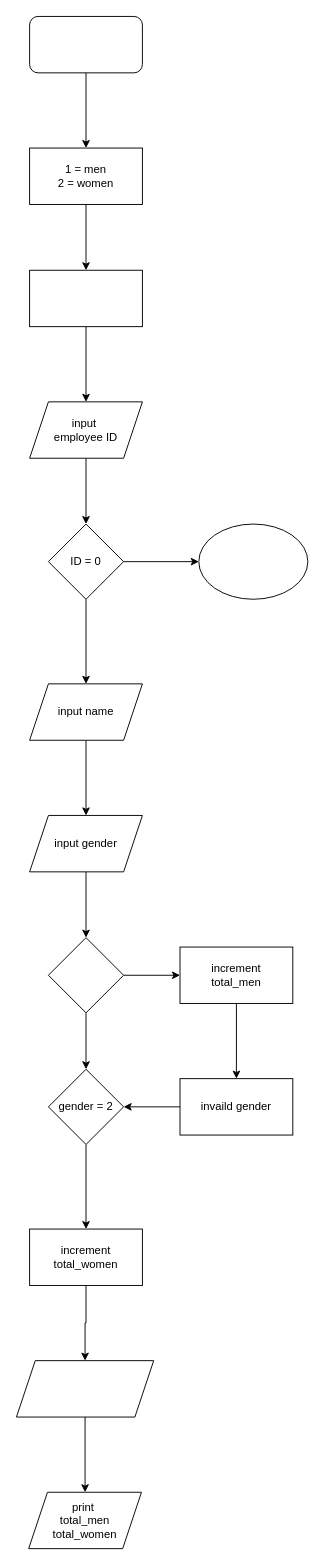
Some shapes in this 324 by 1565 pixel diagram are drawn without their labels. Here are the shapes that lost their labels. From the top down, the box of each, then its label:
(29, 16, 142, 73): start
(29, 269, 142, 327): for 1 for 1 to 10
(198, 523, 308, 599): end loop
(47, 937, 124, 1013): gender = 1
(16, 1360, 154, 1417): print Employee information
